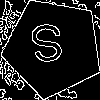S: (28, 22, 67, 73)
